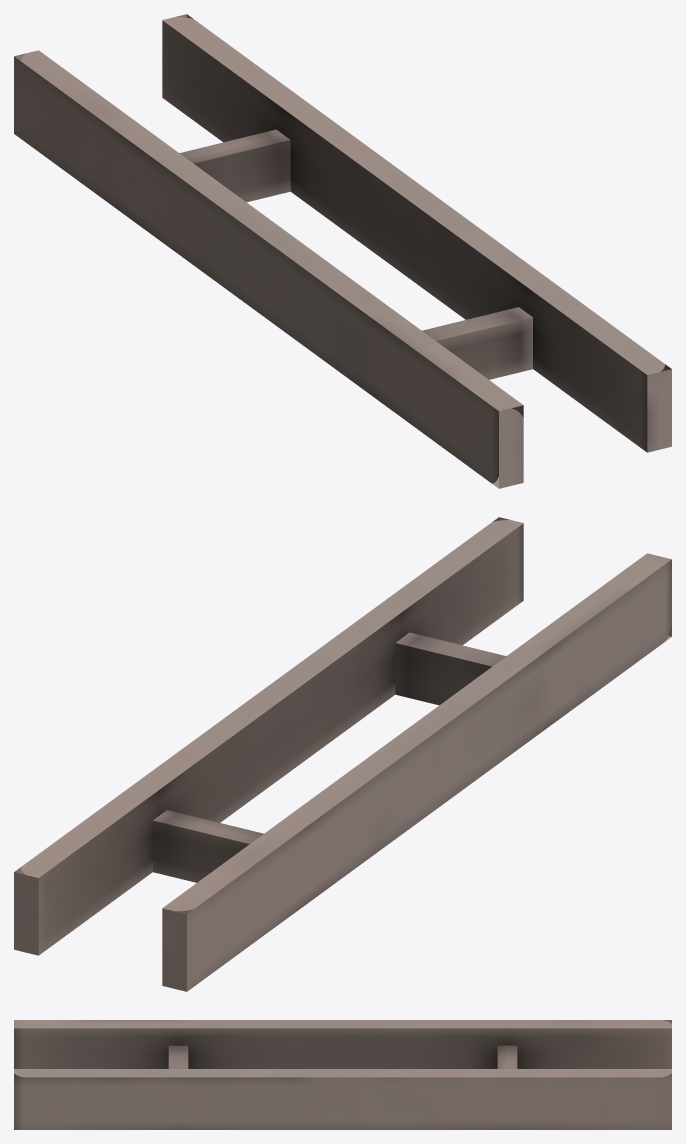
Rendered from evacuate_walkway_associate.obj.
The picture shows the model from 3 angles, top to bottom: view 1: azimuth 30°, elevation 25°; view 2: azimuth 150°, elevation 25°; view 3: azimuth 270°, elevation 25°; orthographic projection. The views are drawn at different scales.
Visible parts, largest first — view 1: evacuate_walkway_associate; view 2: evacuate_walkway_associate; view 3: evacuate_walkway_associate.
Boxes of the visible parts, x1,y1,x2,y2 form: evacuate_walkway_associate: (14,14,671,488); evacuate_walkway_associate: (14,517,671,991); evacuate_walkway_associate: (14,1020,671,1129).
Size of the model in its own units: 0.2188 by 0.0938 by 1.06.
Materials: 1 (1 with a texture image).
